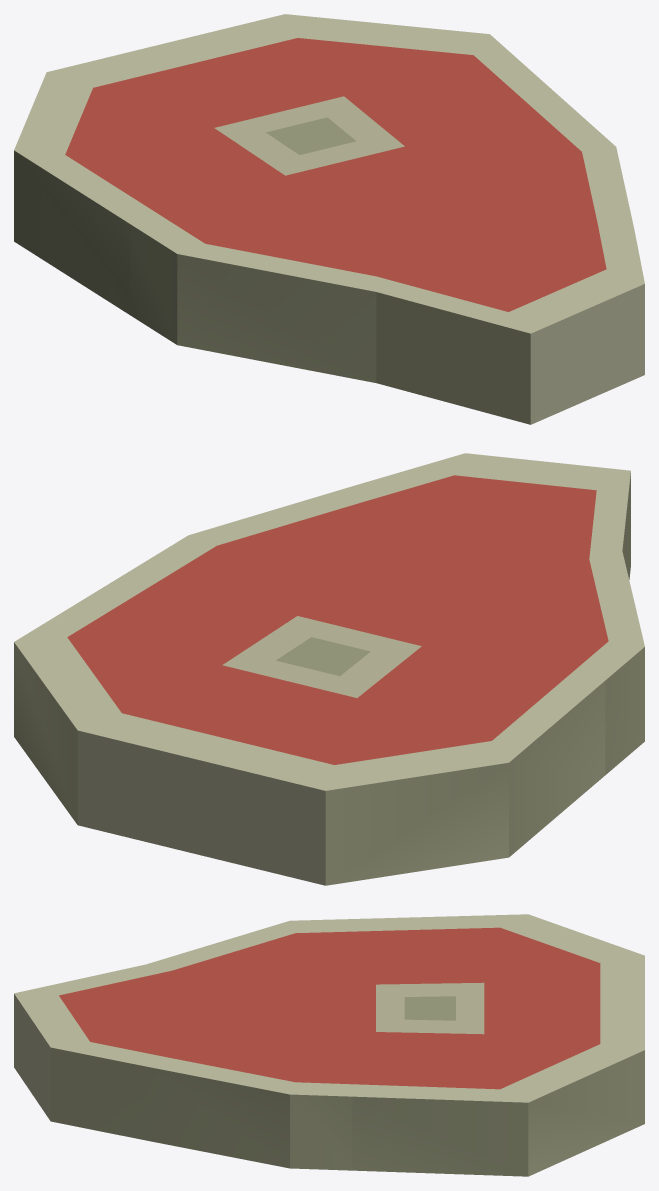
The model's file is Steak_Sliced.fbx.
The picture shows the model from 3 angles, top to bottom: view 1: azimuth 30°, elevation 25°; view 2: azimuth 150°, elevation 25°; view 3: azimuth 270°, elevation 25°; orthographic projection. The views are drawn at different scales.
Parts seen in each view (by area): view 1: Steak_Top, Steak_Bottom; view 2: Steak_Bottom, Steak_Top; view 3: Steak_Bottom, Steak_Top.
Boxes of the visible parts, x1,y1,x2,y2 form: Steak_Top: (129,117,644,424); Steak_Bottom: (14,14,582,314); Steak_Bottom: (14,563,605,885); Steak_Top: (143,453,644,774); Steak_Bottom: (352,914,644,1176); Steak_Top: (14,919,359,1170).
Size of the model in its own units: 4.67 by 0.8559 by 6.62.
